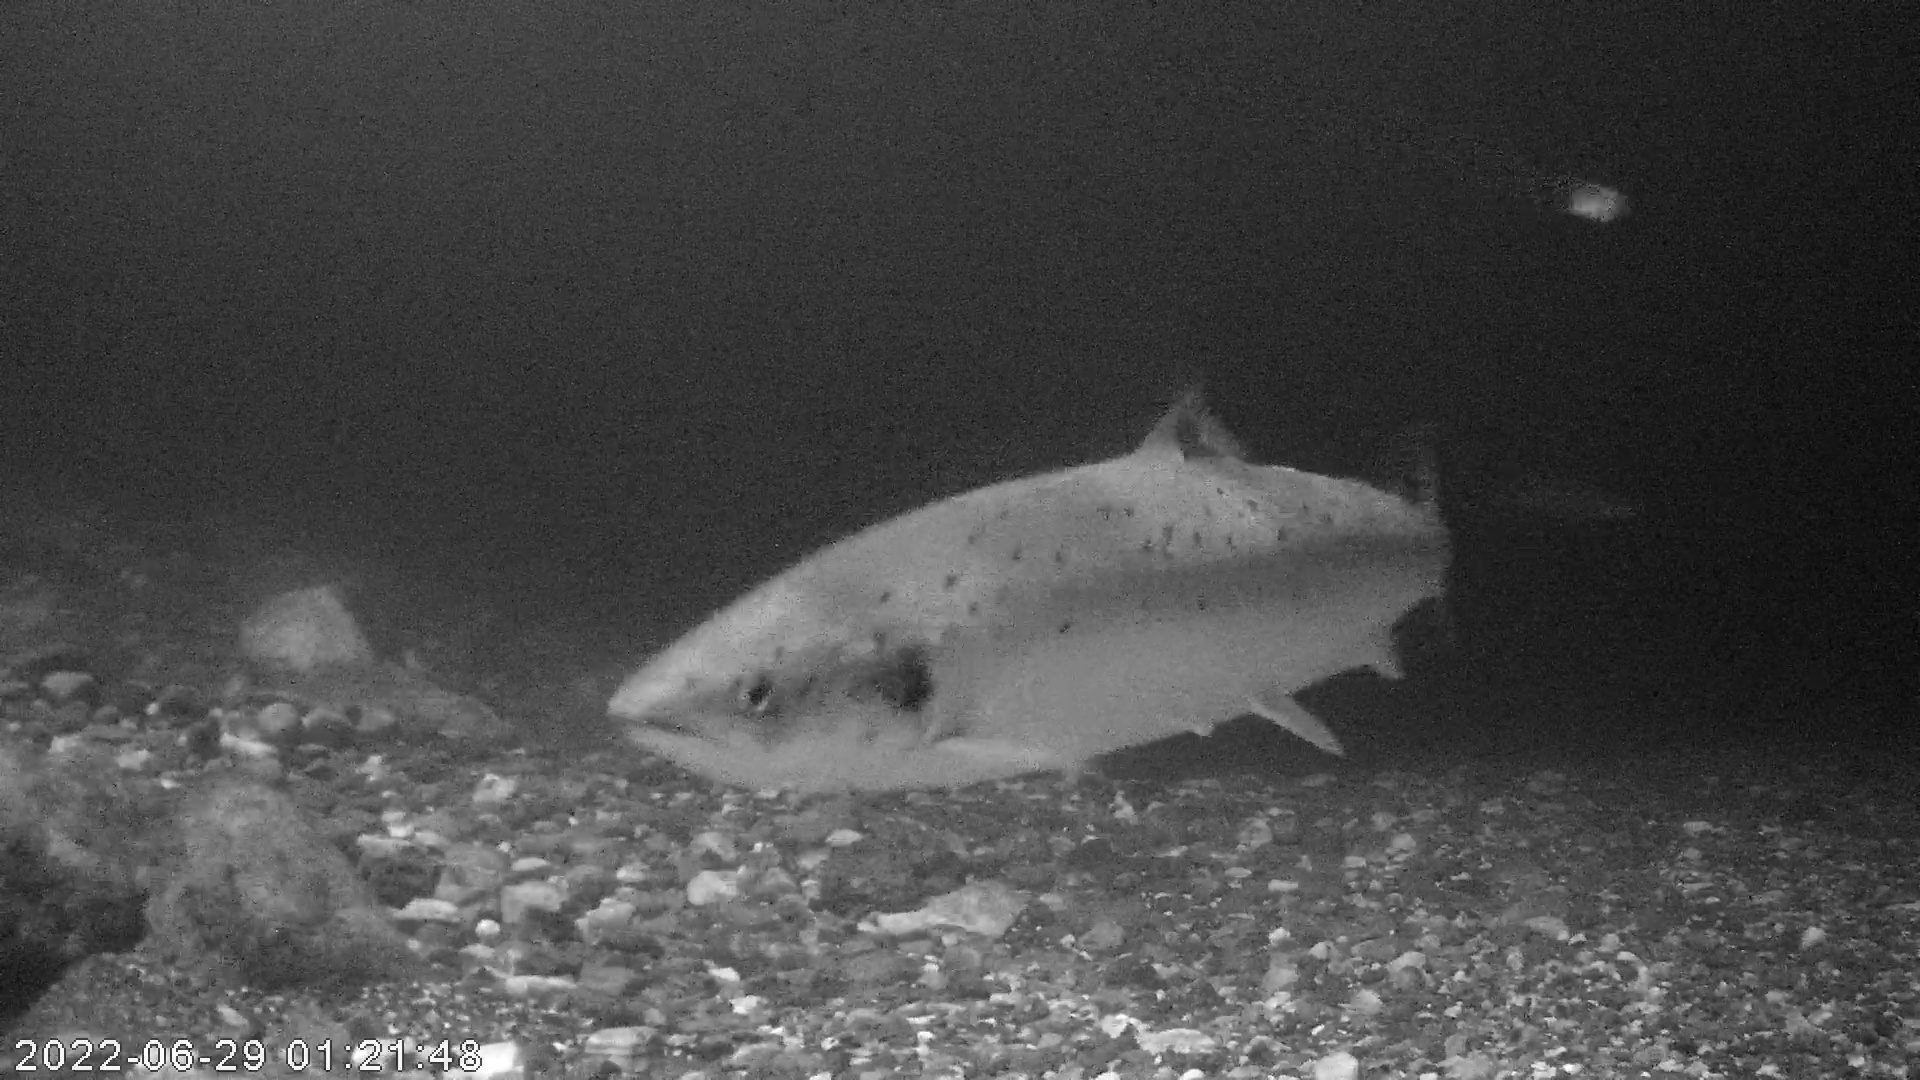salmon: (616, 378, 1455, 796)
